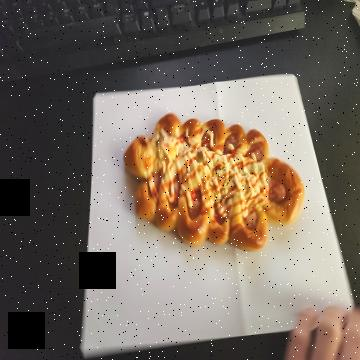pizza_bread: (118, 114, 304, 251)
